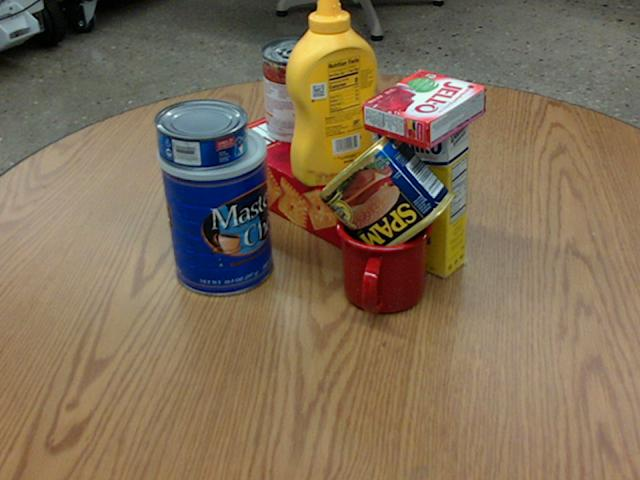cracker_box: (214, 95, 441, 250)
gelatin_box: (363, 69, 486, 148)
large_marker: (204, 120, 229, 222)
master_chef_can: (156, 121, 274, 294)
mug: (335, 200, 434, 316)
mustard_bottle: (287, 0, 380, 185)
potted_meat_can: (318, 130, 455, 262)
sugar_box: (370, 87, 470, 280)
tomato_soup_can: (260, 37, 322, 143)
tuna_fish_can: (154, 97, 247, 168)
